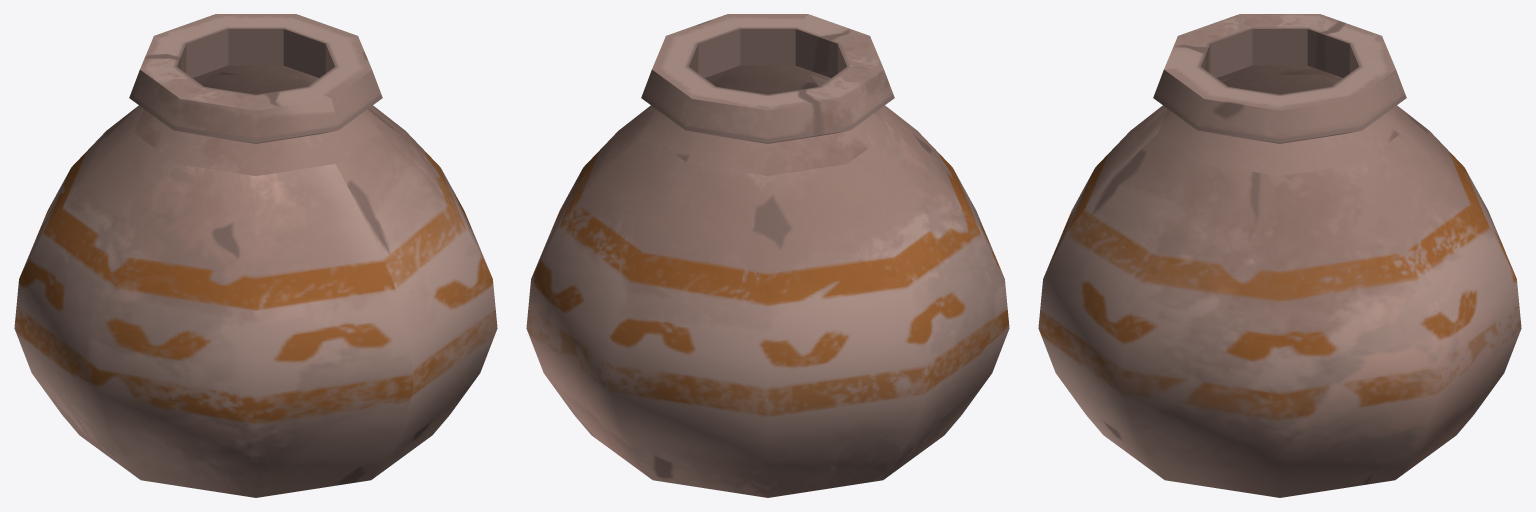
Rendered from Vase_B.FBX.
3 views of the same model, side by side, from view 1: azimuth 30°, elevation 25°; view 2: azimuth 150°, elevation 25°; view 3: azimuth 270°, elevation 25° (orthographic).
Parts seen in each view (by area): view 1: Z3_Vase002; view 2: Z3_Vase002; view 3: Z3_Vase002.
Part boxes in pixels (x1=…): Z3_Vase002: x1=14, y1=14, x2=497, y2=497; Z3_Vase002: x1=526, y1=14, x2=1009, y2=497; Z3_Vase002: x1=1038, y1=14, x2=1521, y2=497.
Size of the model in its own units: 140 by 118 by 142.
